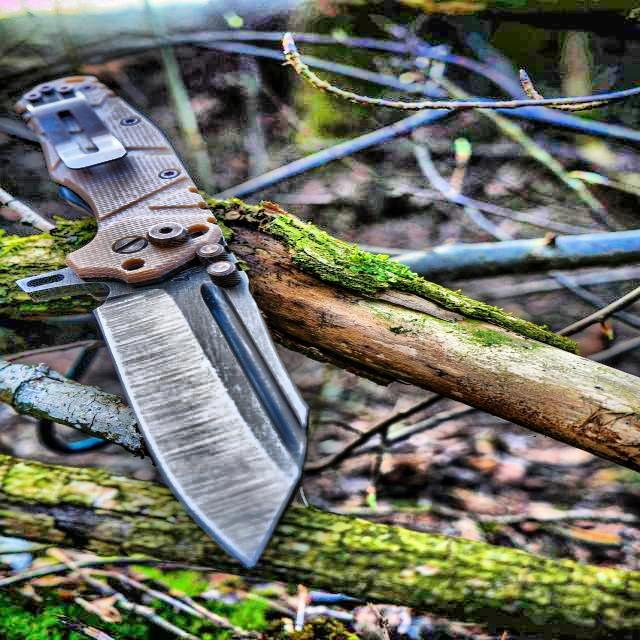knife: (17, 71, 320, 569)
